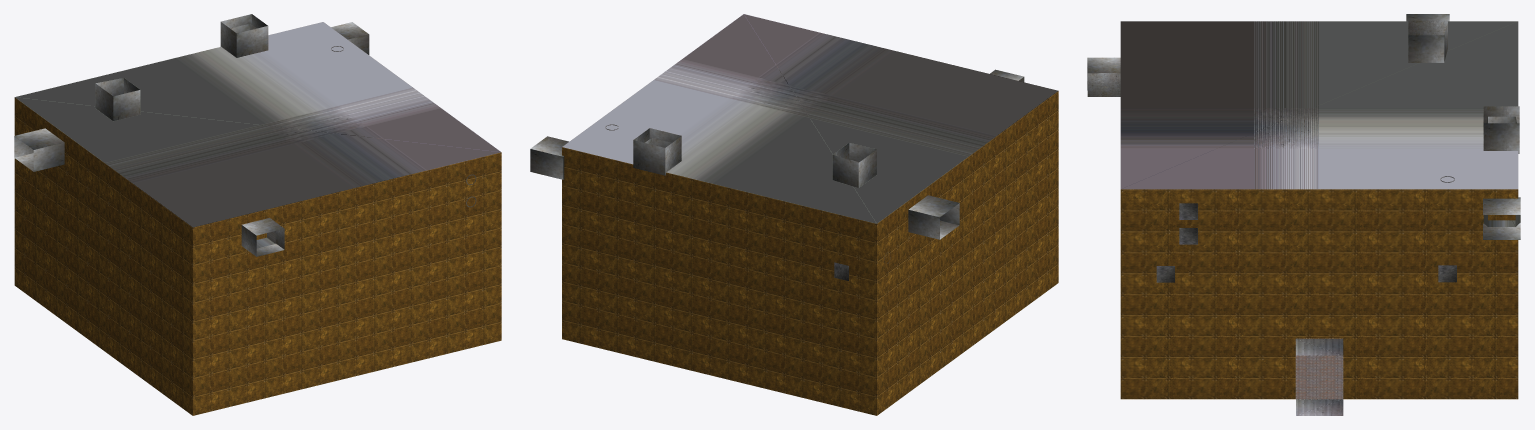
The model's file is room_0.fbx.
3 renders of one model, left to right at view 1: azimuth 30°, elevation 25°; view 2: azimuth 150°, elevation 25°; view 3: azimuth 270°, elevation 25°, orthographic. The views are drawn at different scales.
Parts seen in each view (by area): view 1: Plane.002, Plane.004, Plane.001; view 2: Plane.002, Plane.004, Plane.001; view 3: Plane.002, Plane.004, Plane.001, Floor0, Plane.005.
Boxes of the visible parts, box(x1,y1,x2,y2) form: Plane.002: box(14, 97, 501, 415); Plane.004: box(15, 22, 500, 227); Plane.001: box(14, 14, 369, 256); Plane.002: box(562, 91, 1058, 415); Plane.004: box(562, 14, 1058, 223); Plane.001: box(530, 69, 1024, 239); Plane.002: box(1120, 189, 1518, 399); Plane.004: box(1120, 21, 1518, 189); Plane.001: box(1087, 14, 1520, 239); Floor0: box(1295, 338, 1343, 399); Plane.005: box(1296, 339, 1343, 415).
Bounding box in the file's own units: 1201 × 661 × 1090.
